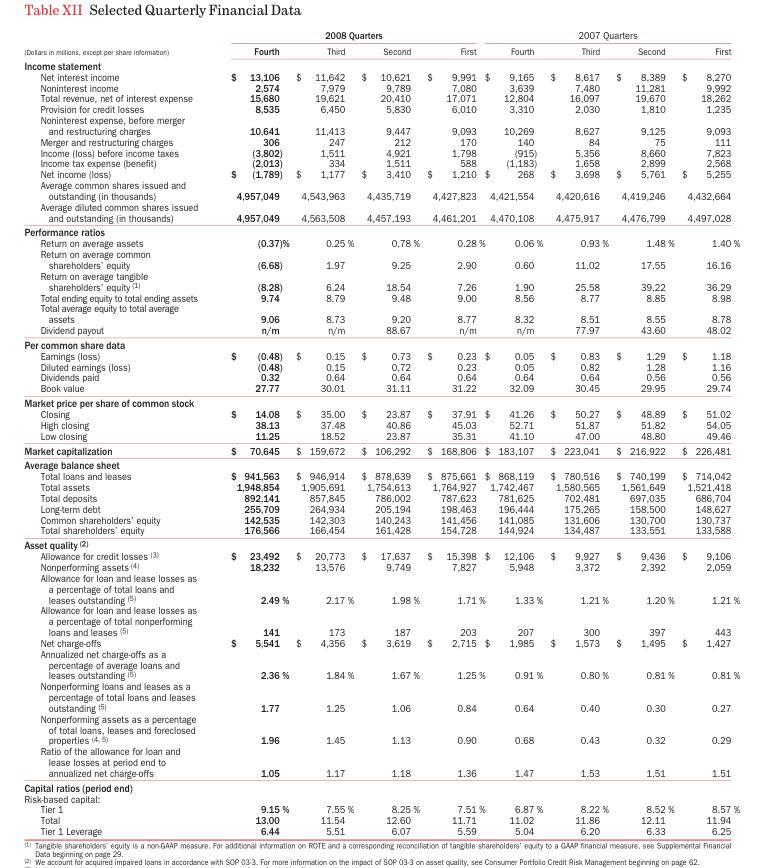table: (23, 29, 739, 836)
table column: (23, 29, 213, 836), (213, 29, 291, 836), (356, 29, 422, 836), (545, 29, 611, 836), (611, 29, 677, 836), (291, 29, 356, 836), (422, 29, 484, 836), (677, 29, 739, 836), (484, 29, 545, 836)
table column header: (23, 29, 739, 57)
table projected row header: (23, 57, 739, 71), (23, 336, 739, 350), (23, 224, 739, 237), (23, 395, 739, 408), (23, 457, 739, 470), (23, 537, 739, 550), (23, 779, 739, 792), (23, 792, 739, 803)
table row: (23, 745, 739, 779), (23, 604, 739, 637), (23, 647, 739, 680), (23, 712, 739, 745), (23, 572, 739, 604), (23, 680, 739, 712), (23, 201, 739, 224), (23, 179, 739, 201), (23, 248, 739, 270), (23, 302, 739, 324), (23, 114, 739, 135), (23, 270, 739, 291), (23, 42, 739, 57), (23, 442, 739, 457), (23, 57, 739, 71), (23, 336, 739, 350), (23, 29, 739, 42), (23, 224, 739, 237), (23, 382, 739, 395), (23, 395, 739, 408), (23, 429, 739, 442), (23, 457, 739, 470), (23, 524, 739, 537), (23, 537, 739, 550), (23, 779, 739, 792), (23, 324, 739, 336), (23, 81, 739, 92), (23, 92, 739, 103), (23, 103, 739, 114), (23, 135, 739, 146), (23, 146, 739, 157), (23, 157, 739, 168), (23, 168, 739, 179), (23, 237, 739, 248), (23, 291, 739, 302), (23, 360, 739, 371), (23, 371, 739, 382), (23, 408, 739, 419), (23, 470, 739, 481), (23, 481, 739, 492), (23, 502, 739, 513), (23, 513, 739, 524), (23, 550, 739, 561), (23, 561, 739, 572), (23, 792, 739, 803), (23, 803, 739, 814), (23, 814, 739, 825), (23, 825, 739, 836), (23, 71, 739, 81), (23, 350, 739, 360), (23, 419, 739, 429), (23, 492, 739, 502), (23, 637, 739, 647)
table spanning cell: (23, 29, 213, 57), (213, 29, 484, 42), (484, 29, 739, 42)
